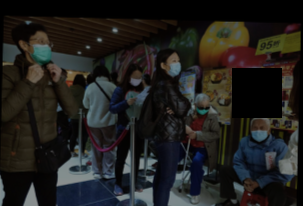with_mask: (26, 34, 52, 65), (250, 122, 269, 142), (166, 55, 181, 76), (128, 73, 142, 87), (196, 102, 211, 115)
